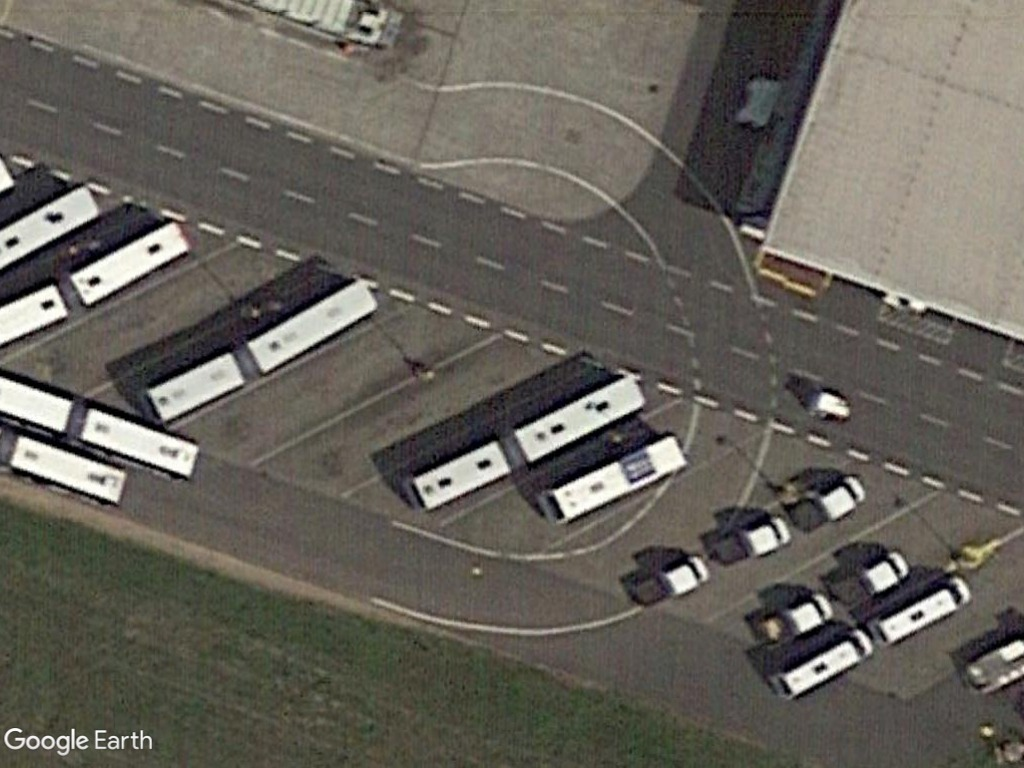bus: (242, 272, 386, 380), (537, 433, 688, 531), (511, 369, 653, 467), (69, 217, 199, 310), (77, 403, 202, 485), (4, 430, 131, 508), (401, 435, 518, 515), (145, 345, 252, 427)
van: (866, 572, 981, 651), (765, 626, 877, 701)
